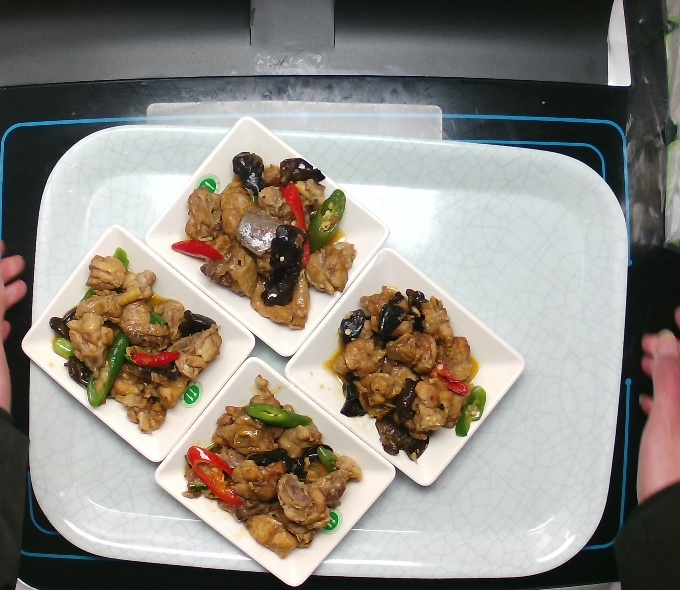wcq-LaZiJi: (183, 371, 367, 560), (48, 244, 225, 432), (182, 147, 358, 331), (332, 280, 488, 467)
